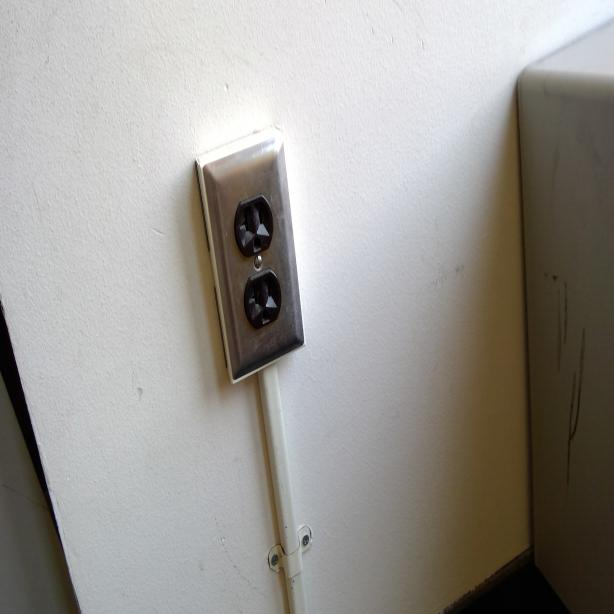typeb: (234, 200, 272, 255), (248, 278, 280, 327)
